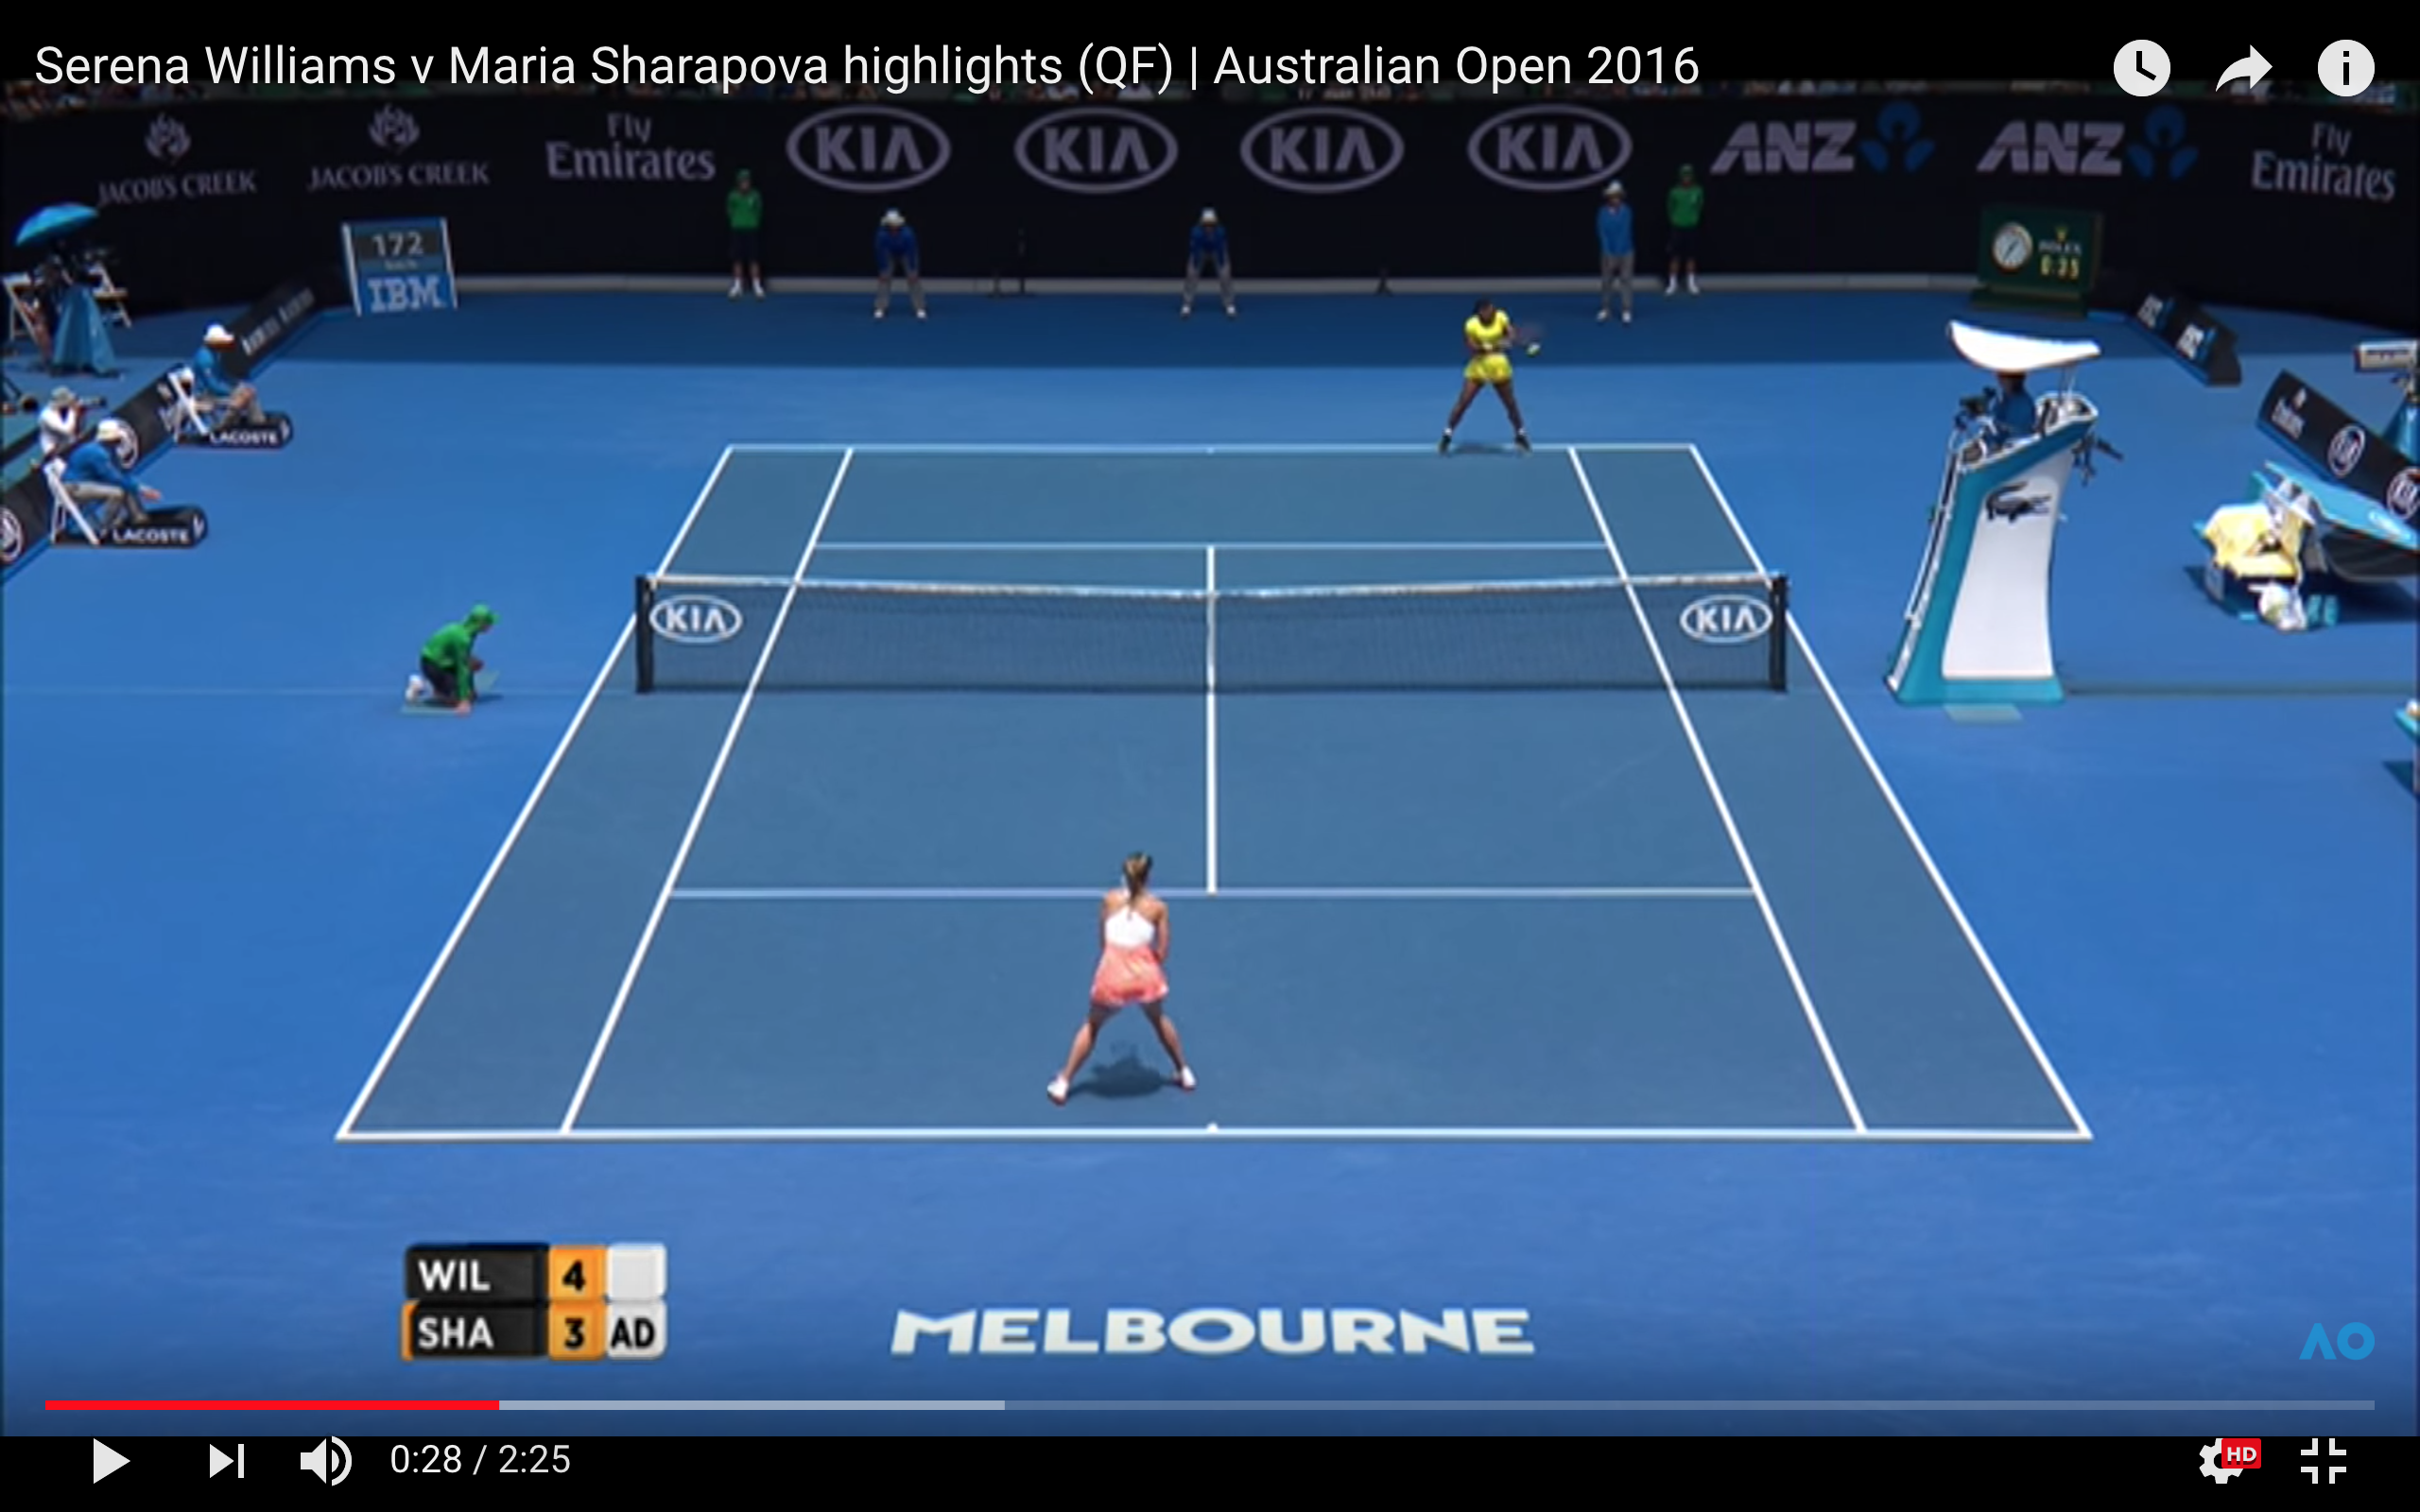tennis ball: (1524, 342, 1546, 357)
tennis player: (1033, 846, 1218, 1101), (1436, 298, 1546, 455)
